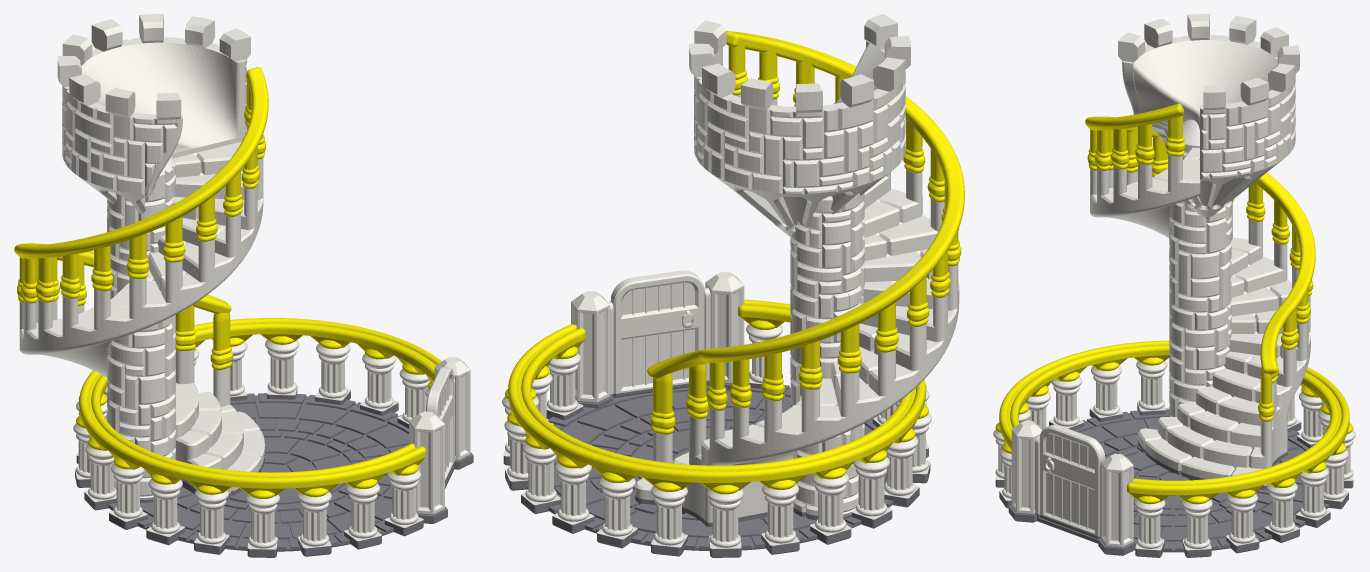
File: dice-tower.glb
The picture shows the model from 3 angles, left to right: view 1: azimuth 30°, elevation 25°; view 2: azimuth 150°, elevation 25°; view 3: azimuth 270°, elevation 25°; orthographic projection. The views are drawn at different scales.
Parts seen in each view (by area): view 1: Tower, Railings, Stonework; view 2: Tower, Railings, Stonework; view 3: Tower, Railings, Stonework.
Part boxes in pixels (<box>): Tower: <box>19,14,470,549</box>; Railings: <box>14,67,441,498</box>; Stonework: <box>75,386,473,557</box>; Tower: <box>502,14,959,548</box>; Railings: <box>505,31,964,494</box>; Stonework: <box>503,374,930,557</box>; Tower: <box>993,14,1355,550</box>; Railings: <box>995,103,1353,504</box>; Stonework: <box>995,403,1353,557</box>.
Bounding box in the file's own units: 214 × 220 × 186.
